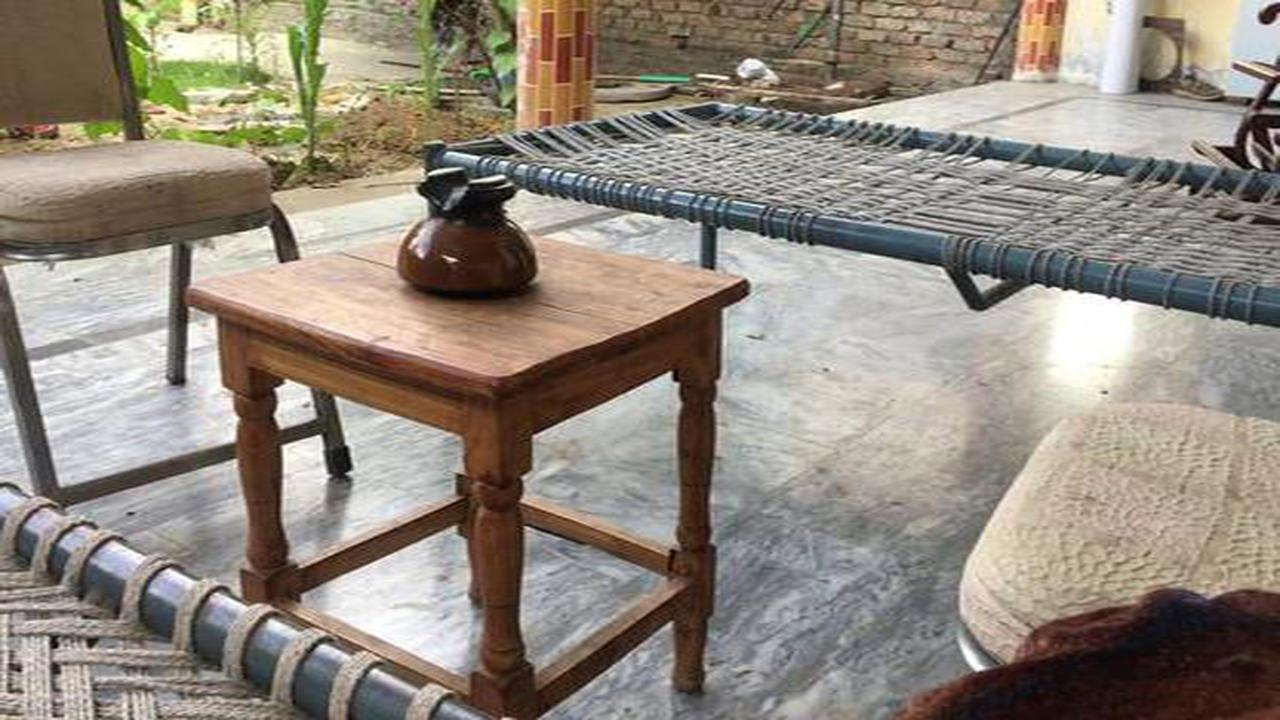insulator_pin: (382, 146, 554, 309)
